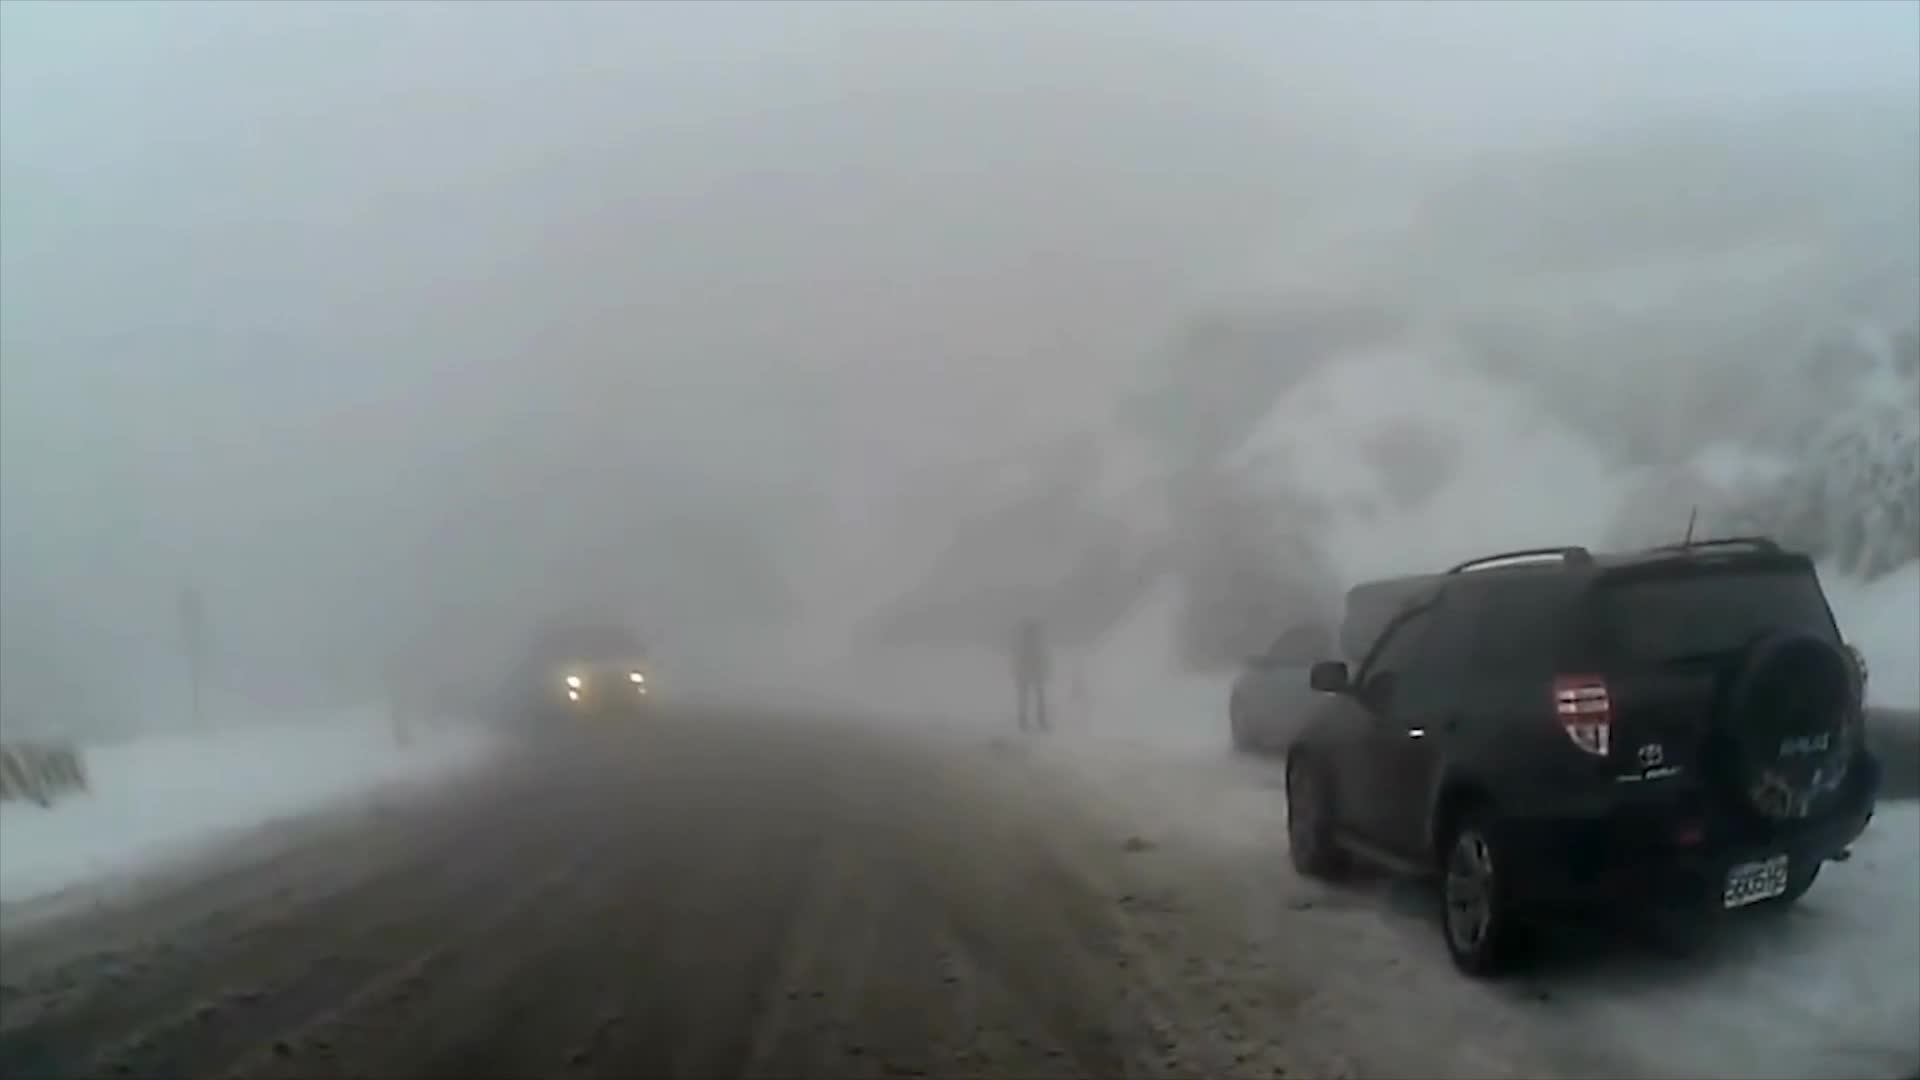pedestrian: (1009, 614, 1053, 732)
vehicle: (1280, 534, 1879, 980), (1228, 561, 1541, 762), (523, 609, 656, 722)
